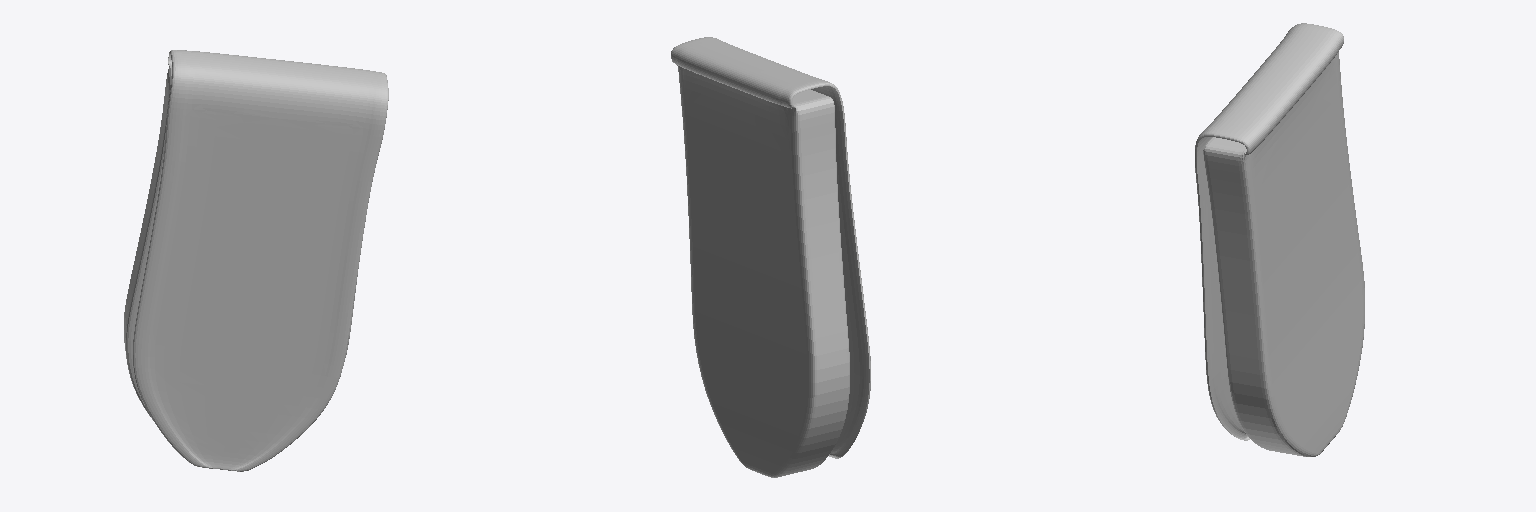
The model's file is bag_heigh.obj.
3 renders of one model, left to right at view 1: azimuth 30°, elevation 25°; view 2: azimuth 150°, elevation 25°; view 3: azimuth 270°, elevation 25°, orthographic.
Visible parts, largest first — view 1: polySurface384 polySurface156; view 2: polySurface384 polySurface156; view 3: polySurface384 polySurface156.
Boxes of the visible parts, box(x1,y1,x2,y2) form: polySurface384 polySurface156: box(124, 50, 388, 471); polySurface384 polySurface156: box(671, 37, 870, 477); polySurface384 polySurface156: box(1195, 23, 1364, 456).
Bounding box in the file's own units: 8 × 13.52 × 5.24.